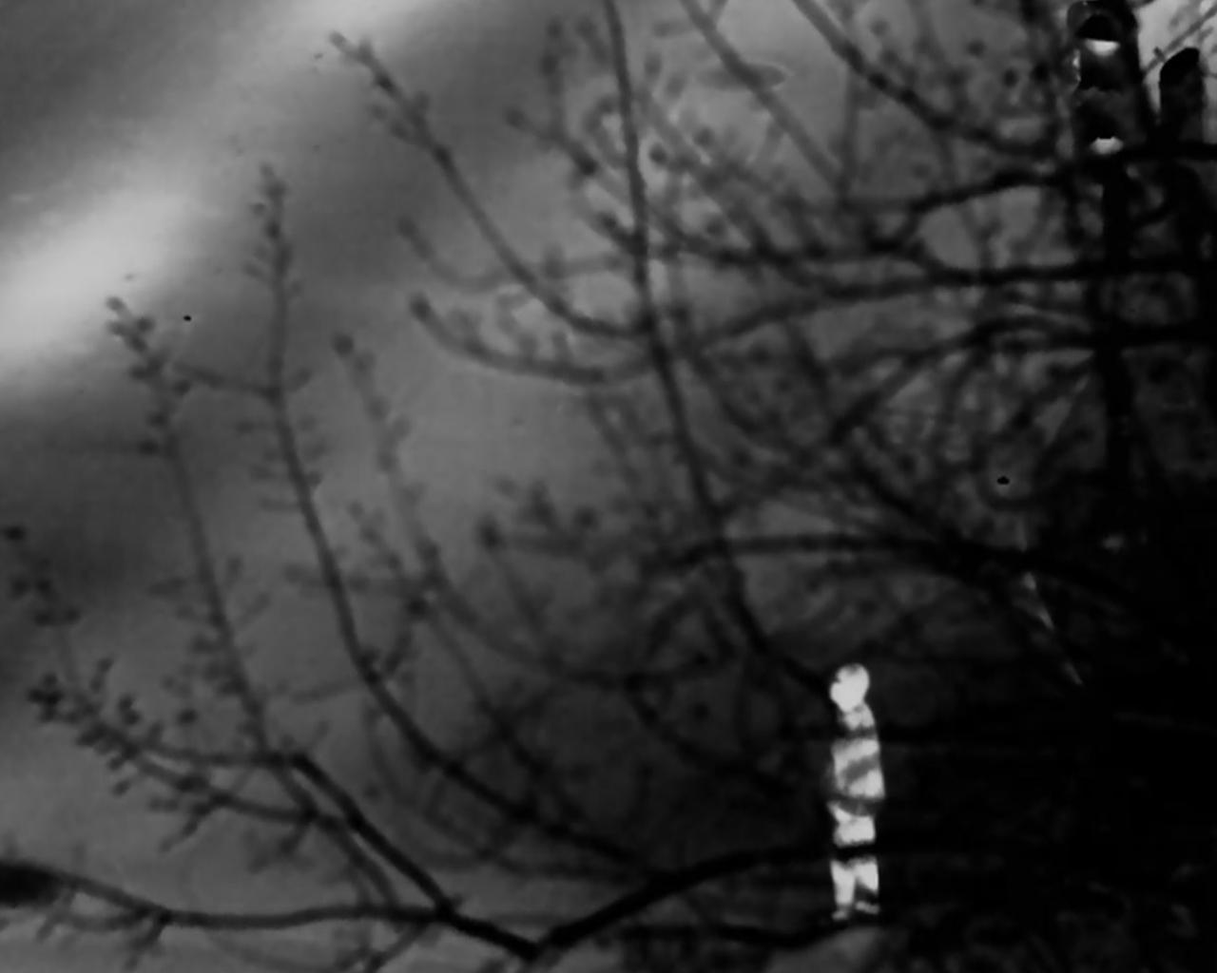person: (799, 658, 906, 929)
